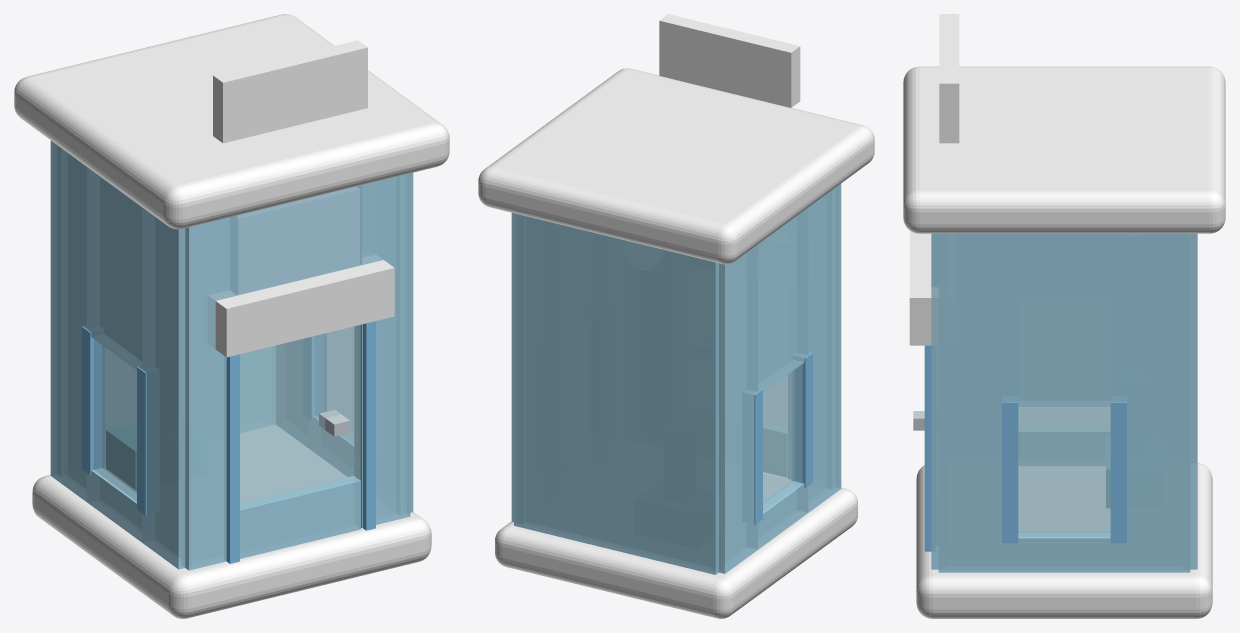
Rendered from kiosk.glb.
The picture shows the model from 3 angles, left to right: view 1: azimuth 30°, elevation 25°; view 2: azimuth 150°, elevation 25°; view 3: azimuth 270°, elevation 25°; orthographic projection. The views are drawn at different scales.
Parts seen in each view (by area): view 1: Original_roof, Original_stone, Door_Main_Glass, Shell_Front_Side_-1, Shell_Side_-1_End_1, Shell_Front_Side_1, Shell_Side_-1_End_-1, Original_accent, Original_emissive, Shell_Front_Header, Original_glass, Shell_Side_-1_Header (+16 smaller); view 2: Shell_Back, Original_roof, Original_stone, Shell_Side_-1_End_-1, Shell_Side_-1_End_1, Original_emissive, Shell_Side_-1_Header, Window_Right_Glass, WindowFrame_-1_1, WindowFrame_-1_-1, Shell_Side_-1_Sill, Door_Main_LowerBand (+2 smaller); view 3: Original_roof, Shell_Side_1_End_-1, Shell_Side_1_End_1, Shell_Side_1_Header, Original_stone, Window_Left_Glass, Walkable_Interior_Floor, Shell_Side_1_Sill, Shell_Side_-1_Sill, Original_accent, Original_emissive, Shell_Front_Side_1 (+5 smaller).
Part boxes in pixels (x1=…): Original_roof: x1=14, y1=14, x2=449, y2=229; Original_stone: x1=32, y1=474, x2=431, y2=618; Door_Main_Glass: x1=240, y1=325, x2=360, y2=509; Shell_Front_Side_-1: x1=182, y1=215, x2=237, y2=570; Shell_Side_-1_End_1: x1=142, y1=207, x2=190, y2=569; Shell_Front_Side_1: x1=354, y1=173, x2=410, y2=528; Shell_Side_-1_End_-1: x1=50, y1=140, x2=86, y2=501; Original_accent: x1=208, y1=255, x2=394, y2=357; Original_emissive: x1=213, y1=40, x2=367, y2=143; Shell_Front_Header: x1=237, y1=185, x2=361, y2=295; Original_glass: x1=238, y1=187, x2=359, y2=293; Shell_Side_-1_Header: x1=87, y1=167, x2=142, y2=369; Shell_Back: x1=514, y1=213, x2=721, y2=574; Original_roof: x1=478, y1=68, x2=874, y2=264; Original_stone: x1=495, y1=472, x2=857, y2=618; Shell_Side_-1_End_-1: x1=714, y1=244, x2=757, y2=573; Shell_Side_-1_End_1: x1=808, y1=183, x2=841, y2=512; Original_emissive: x1=659, y1=14, x2=800, y2=107; Shell_Side_-1_Header: x1=758, y1=208, x2=808, y2=392; Window_Right_Glass: x1=763, y1=364, x2=802, y2=511; WindowFrame_-1_1: x1=792, y1=352, x2=812, y2=487; WindowFrame_-1_-1: x1=743, y1=389, x2=762, y2=524; Shell_Side_-1_Sill: x1=758, y1=481, x2=808, y2=549; Door_Main_LowerBand: x1=763, y1=422, x2=787, y2=477; Original_roof: x1=903, y1=66, x2=1225, y2=233; Shell_Side_1_End_-1: x1=1118, y1=233, x2=1190, y2=572; Shell_Side_1_End_1: x1=938, y1=233, x2=1010, y2=572; Shell_Side_1_Header: x1=1010, y1=233, x2=1118, y2=406; Original_stone: x1=916, y1=463, x2=1212, y2=618; Window_Left_Glass: x1=1018, y1=407, x2=1110, y2=536; Walkable_Interior_Floor: x1=1018, y1=467, x2=1110, y2=531; Shell_Side_1_Sill: x1=1010, y1=532, x2=1118, y2=572; Shell_Side_-1_Sill: x1=1018, y1=427, x2=1110, y2=465; Original_accent: x1=909, y1=230, x2=937, y2=345; Original_emissive: x1=939, y1=14, x2=959, y2=143; Shell_Front_Side_1: x1=931, y1=233, x2=938, y2=569.
Size of the model in its own units: 0.98 by 1.72 by 0.98.
